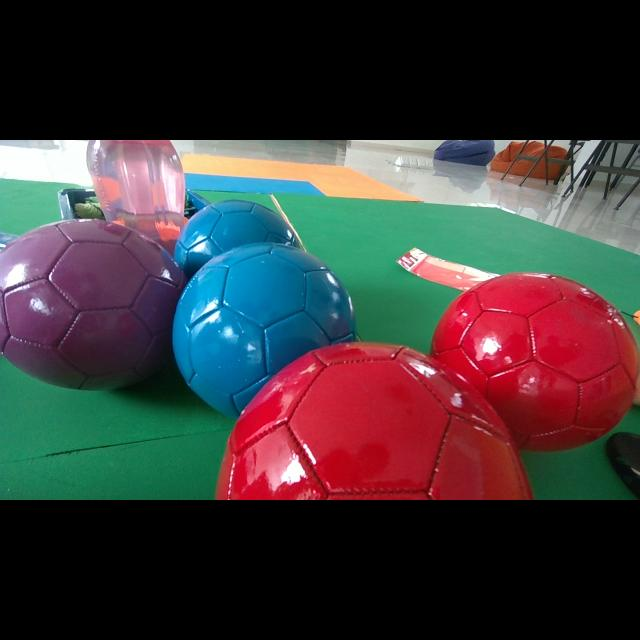B: (174, 242, 355, 417), (174, 200, 299, 277)
P: (0, 219, 186, 389)
R: (217, 342, 532, 499), (431, 272, 640, 451)
